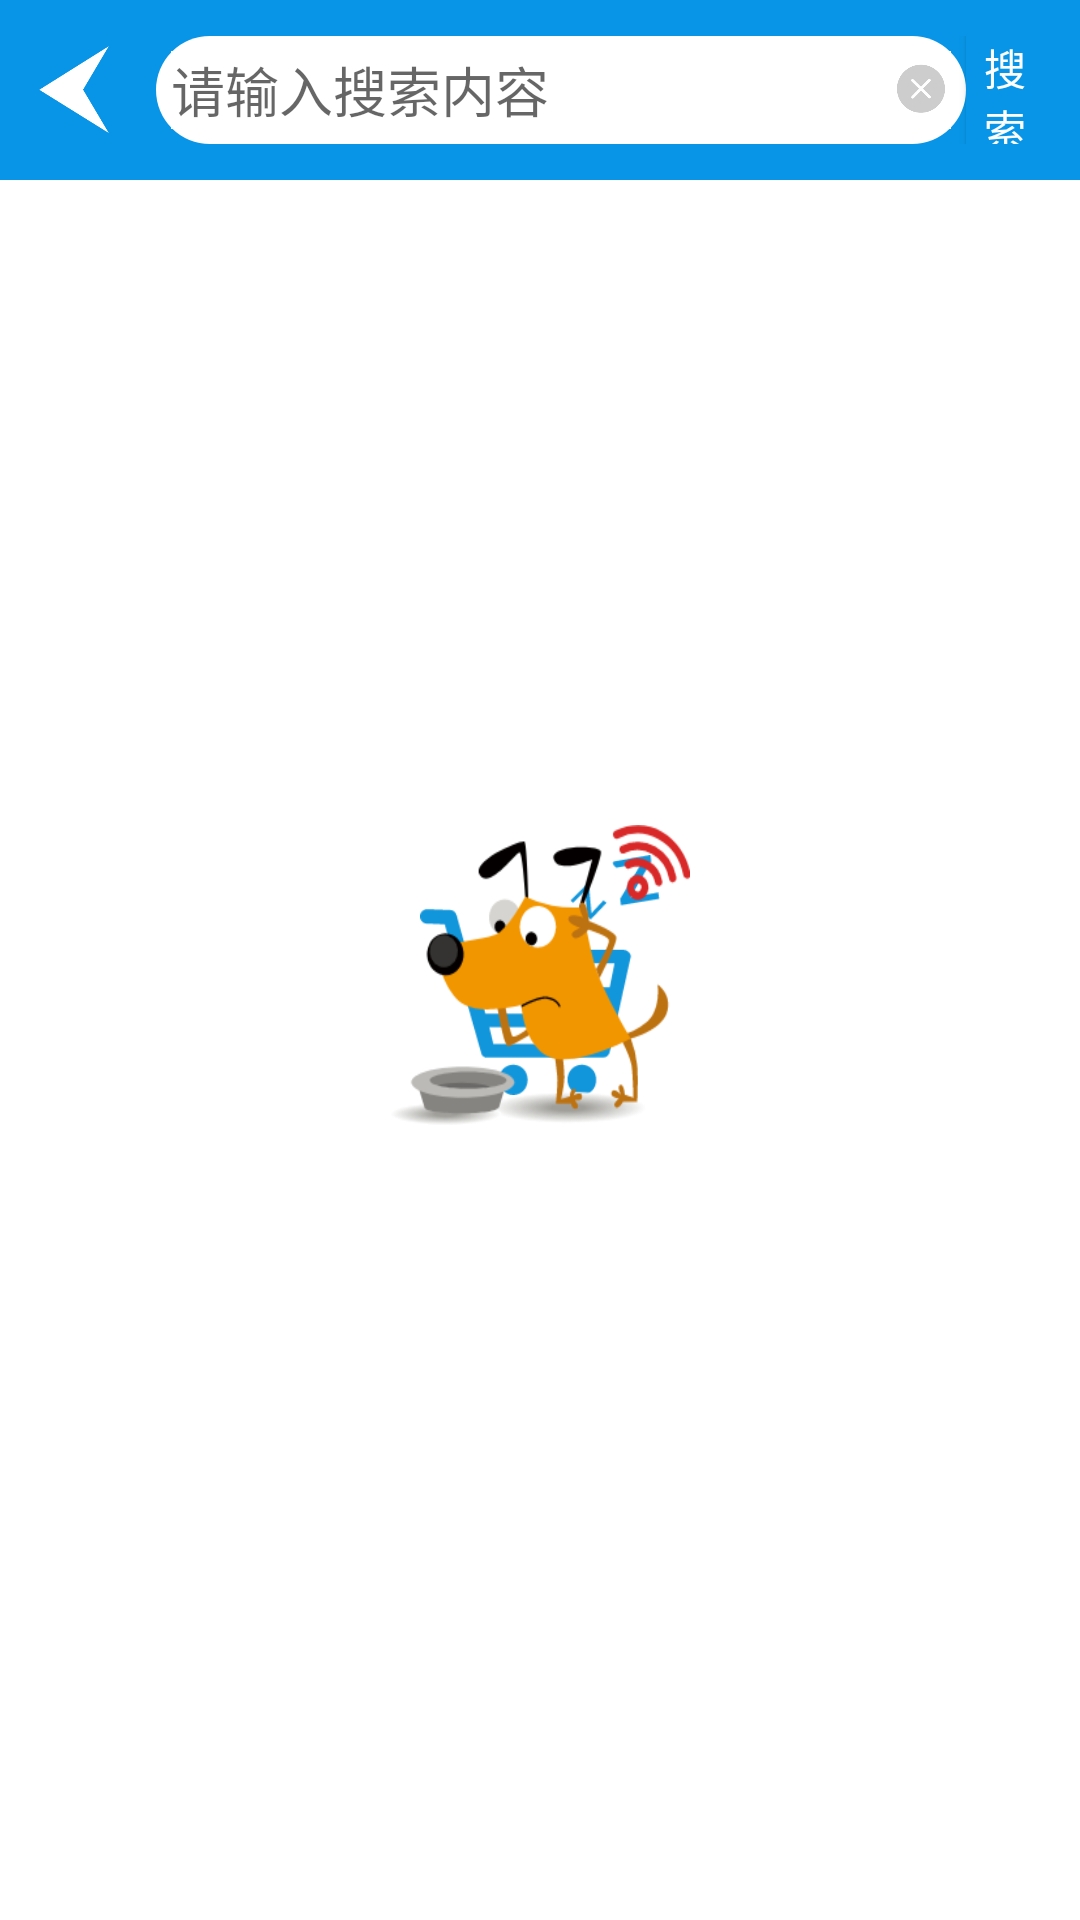

Locate icon controls on the screen. Image size 1080px×1920px, boxes as (left=x1, top=y1, right=x2, bottom=y2).
fanhui: (left=39, top=46, right=109, bottom=133)
home clear: (left=897, top=65, right=945, bottom=113)
